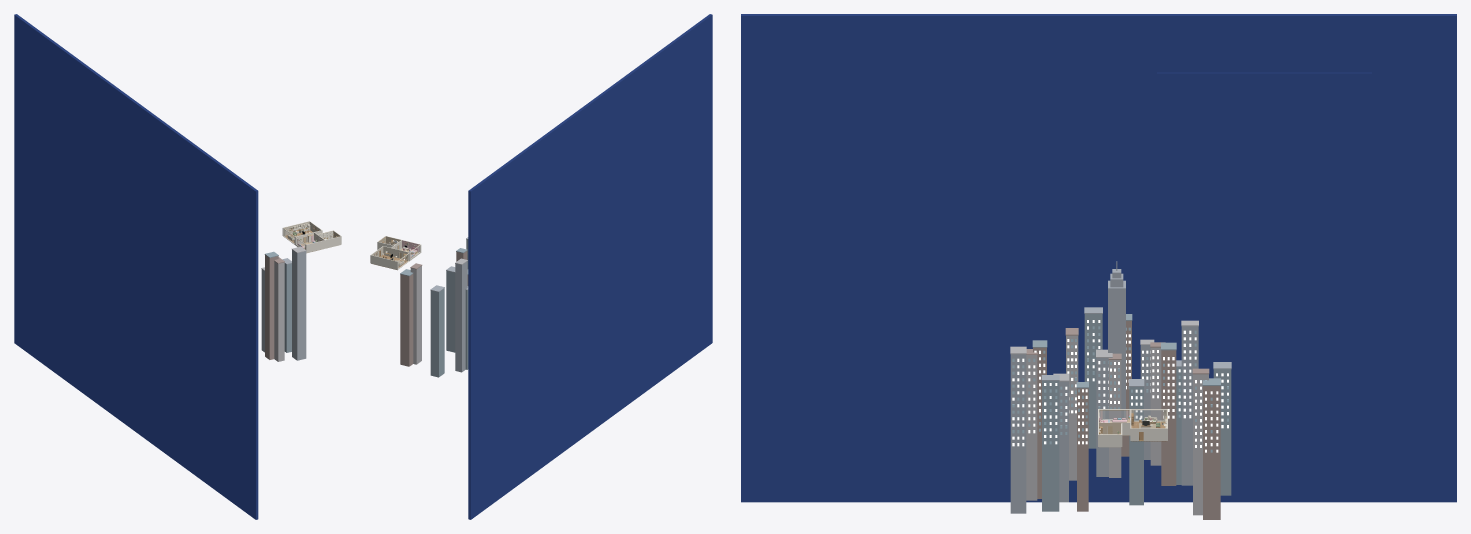
File: MyLittleRoom_Apartment.fbx
The picture shows the model from 3 angles, left to right: view 1: azimuth 30°, elevation 25°; view 2: azimuth 150°, elevation 25°; view 3: azimuth 270°, elevation 25°; orthographic projection. The views are drawn at different scales.
Parts seen in each view (by area): view 1: NIGHT_Sky_Backdrop, NYC_Building_00, NYC_Building_01, NYC_Building_02, NYC_Building_03; view 2: NIGHT_Sky_Backdrop, NYC_Building_19, NYC_Building_18, NYC_Building_16, NYC_Building_17, NYC_Building_11; view 3: NIGHT_Sky_Backdrop, Living_NIGHT_Sky, NYC_Building_00, NYC_Building_18, NYC_Building_03, NYC_Building_16, NYC_Building_14, NYC_Building_01, NYC_Building_07, NYC_Manhattan_Crown_0, NYC_Building_19, NYC_Building_11 (+8 smaller).
Part boxes in pixels (x1,y1,x2,y2): NIGHT_Sky_Backdrop: [14, 14, 258, 519]; NYC_Building_00: [292, 250, 306, 360]; NYC_Building_01: [274, 261, 284, 361]; NYC_Building_02: [265, 255, 278, 359]; NYC_Building_03: [284, 263, 291, 352]; NIGHT_Sky_Backdrop: [468, 14, 712, 519]; NYC_Building_19: [430, 288, 444, 377]; NYC_Building_18: [400, 274, 413, 366]; NYC_Building_16: [455, 261, 467, 372]; NYC_Building_17: [410, 266, 421, 364]; NYC_Building_11: [446, 271, 455, 352]; NIGHT_Sky_Backdrop: [741, 14, 1456, 502]; Living_NIGHT_Sky: [1157, 72, 1371, 478]; NYC_Building_00: [1010, 354, 1026, 513]; NYC_Building_18: [1203, 386, 1220, 519]; NYC_Building_03: [1042, 381, 1059, 511]; NYC_Building_16: [1181, 326, 1198, 485]; NYC_Building_14: [1161, 350, 1176, 485]; NYC_Building_01: [1026, 355, 1037, 500]; NYC_Building_07: [1084, 314, 1102, 448]; NYC_Manhattan_Crown_0: [1108, 280, 1125, 419]; NYC_Building_19: [1213, 369, 1231, 495]; NYC_Building_11: [1129, 387, 1143, 505].
Bounding box in the file's own units: 78.9 × 120 × 160.
Materials: 69 (8 with a texture image).
